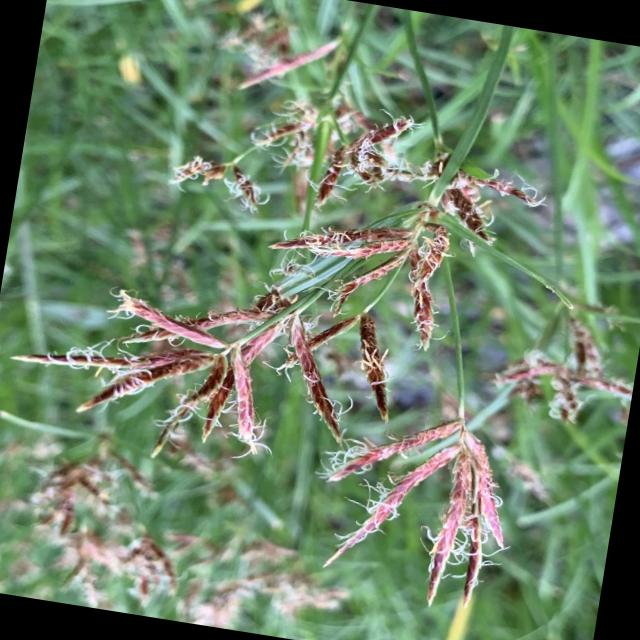cyperus: (0, 94, 640, 626), (158, 66, 432, 254), (0, 445, 190, 620), (167, 527, 349, 640), (489, 314, 640, 445), (185, 5, 352, 114)
